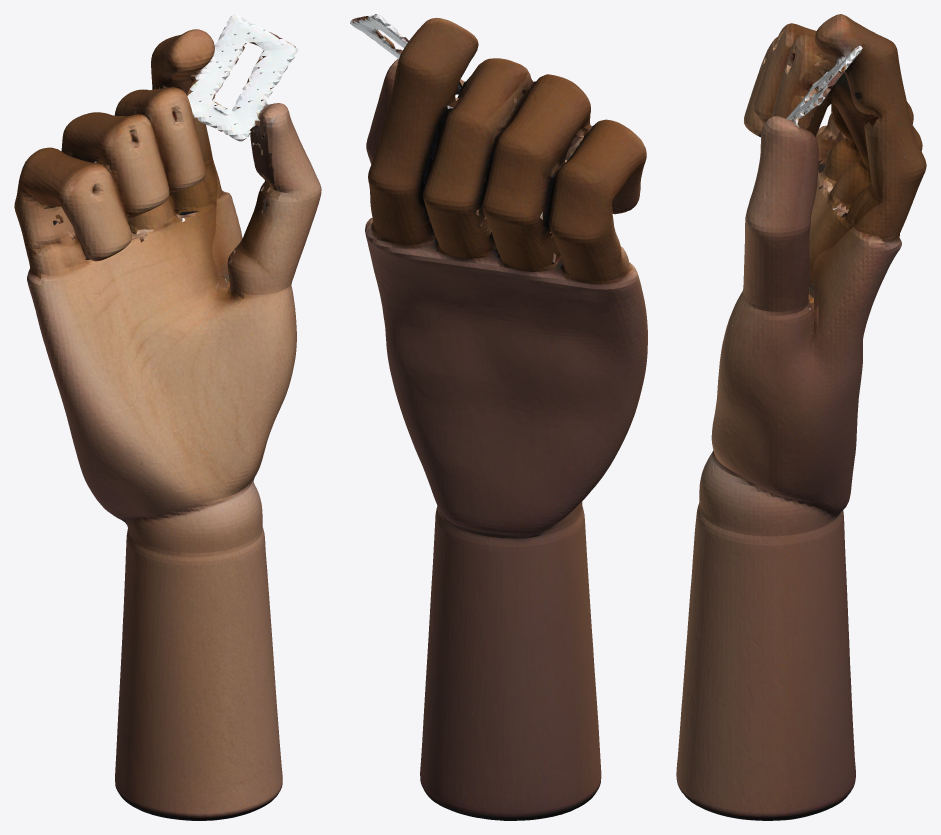
The model's file is 3D_01_木制手模型_textured.glb.
3 renders of one model, left to right at view 1: azimuth 30°, elevation 25°; view 2: azimuth 150°, elevation 25°; view 3: azimuth 270°, elevation 25°, orthographic. The views are drawn at different scales.
Visible parts, largest first — view 1: 3D_01_木制手模型_白膜.obj; view 2: 3D_01_木制手模型_白膜.obj; view 3: 3D_01_木制手模型_白膜.obj.
Boxes of the visible parts, x1=… form: 3D_01_木制手模型_白膜.obj: x1=14, y1=14, x2=321, y2=820; 3D_01_木制手模型_白膜.obj: x1=350, y1=14, x2=647, y2=820; 3D_01_木制手模型_白膜.obj: x1=676, y1=14, x2=926, y2=820.
Size of the model in its own units: 0.7603 by 1.99 by 0.5747.
1 material, 1 textured.
